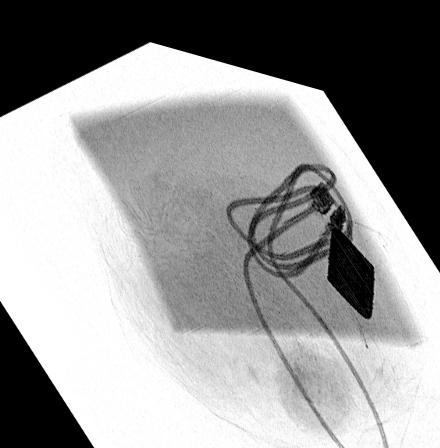Lighter: (325, 206, 374, 300)
